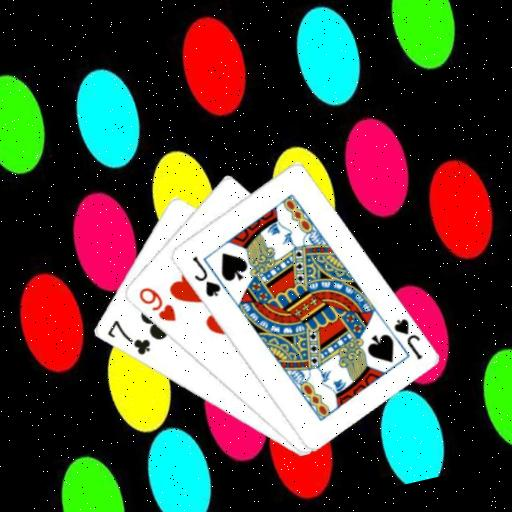7C: (101, 310, 155, 364)
9H: (133, 279, 179, 331)
JS: (186, 249, 224, 303), (388, 312, 426, 365)
